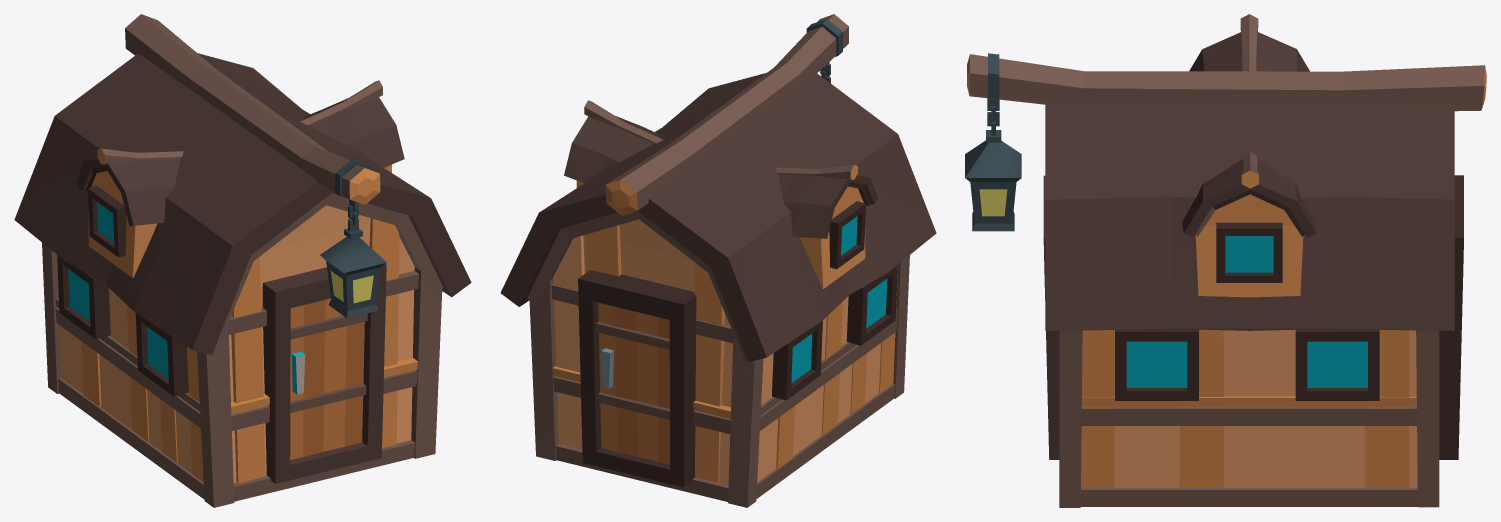
The model's file is House_1-2.fbx.
3 renders of one model, left to right at view 1: azimuth 30°, elevation 25°; view 2: azimuth 150°, elevation 25°; view 3: azimuth 270°, elevation 25°, orthographic. The views are drawn at different scales.
Parts seen in each view (by area): view 1: Village_BG_Bd_Dock01_A.001; view 2: Village_BG_Bd_Dock01_A.001; view 3: Village_BG_Bd_Dock01_A.001.
Part boxes in pixels (x1,y1,x2,y2): Village_BG_Bd_Dock01_A.001: [14, 14, 471, 507]; Village_BG_Bd_Dock01_A.001: [500, 14, 936, 507]; Village_BG_Bd_Dock01_A.001: [965, 14, 1486, 507].
Bounding box in the file's own units: 321 × 370 × 445.
